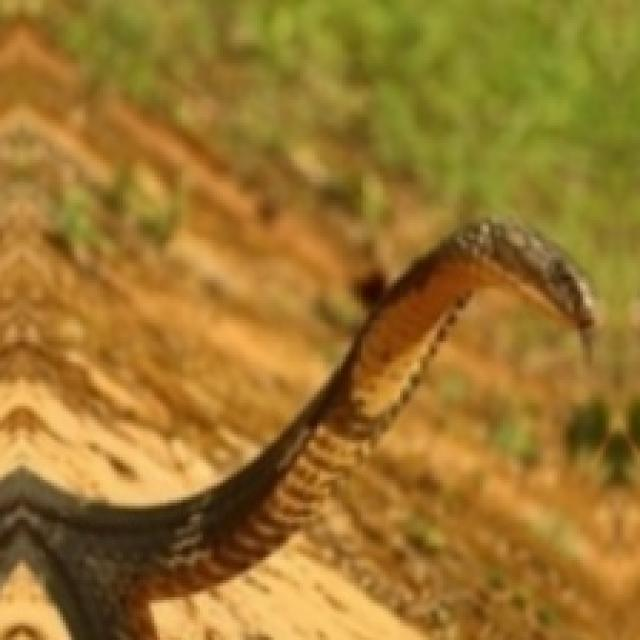king cobra: (0, 220, 591, 637)
